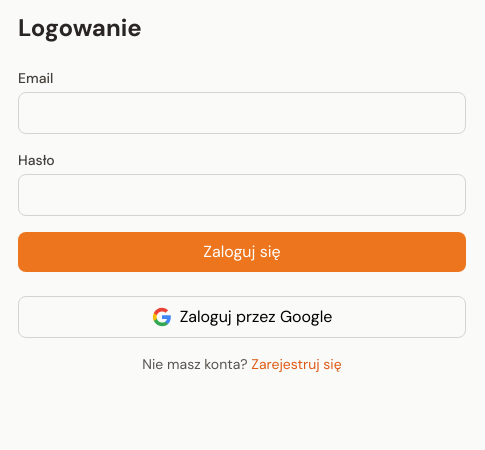
Test: Login › should display generic error message when error response has no message
Type "test@example.com" into the field at (242,113), box [18, 92, 466, 134]
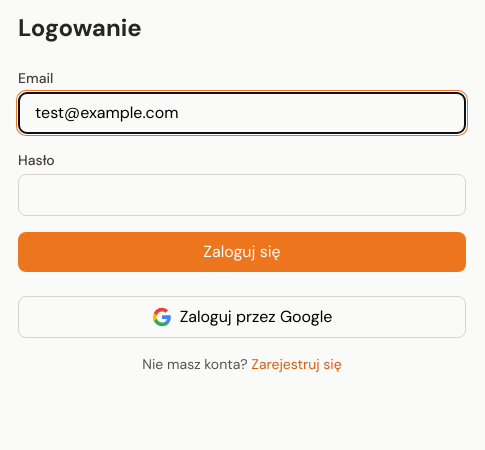
Type "password123" into the password field at (242,195), box [18, 174, 466, 216]
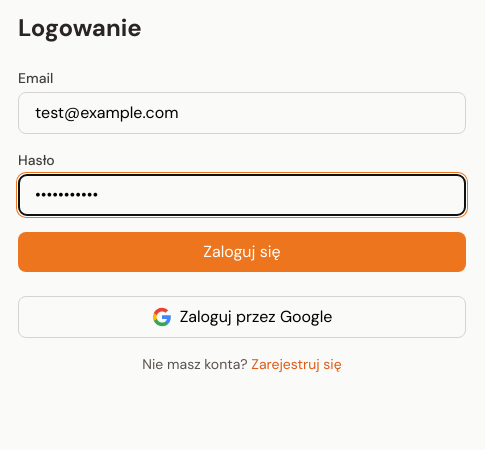
Click the button "Zaloguj się" at (242,252), box [18, 232, 466, 272]
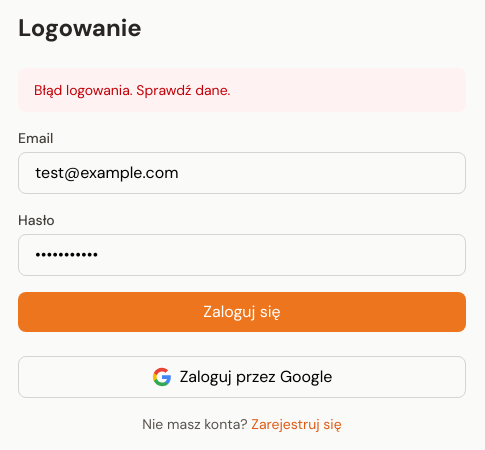
Check: the text "Błąd logowania. Sprawdź dane." is shown, box [18, 68, 466, 112]
